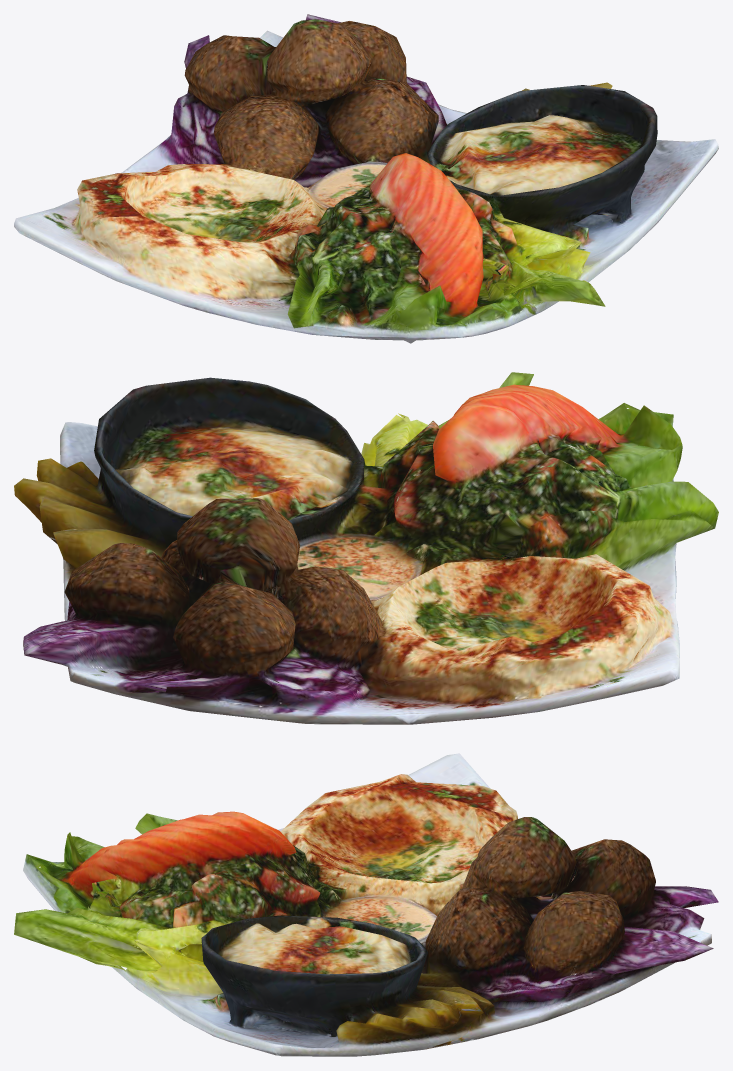
The model's file is Plant_Based_Fat_Kid.glb.
3 views of the same model, one above another, from view 1: azimuth 30°, elevation 25°; view 2: azimuth 150°, elevation 25°; view 3: azimuth 270°, elevation 25° (orthographic). The views are drawn at different scales.
Visible parts, largest first — view 1: Plant_Based_Fat_Kid; view 2: Plant_Based_Fat_Kid; view 3: Plant_Based_Fat_Kid.
Part boxes in pixels (left/top/right/bottom): Plant_Based_Fat_Kid: left=14, top=14, right=718, bottom=343; Plant_Based_Fat_Kid: left=14, top=372, right=718, bottom=724; Plant_Based_Fat_Kid: left=14, top=753, right=718, bottom=1056.
Bounding box in the file's own units: 9.56 × 2.48 × 9.75.
1 material, 1 textured.
